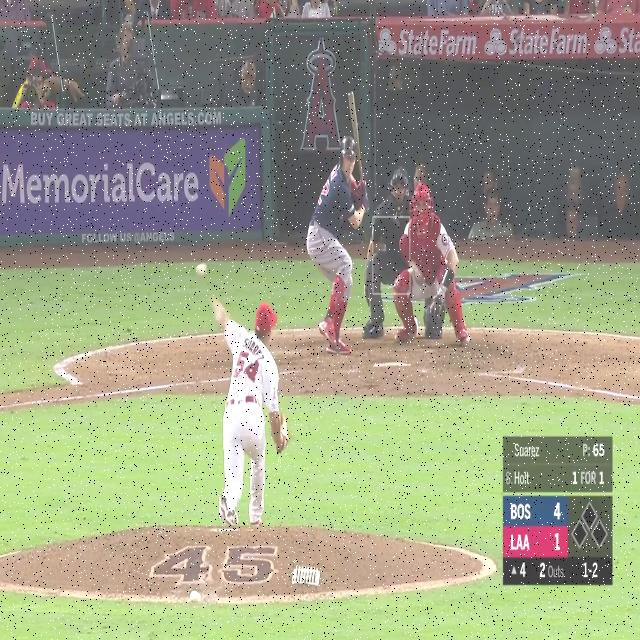baseball: (195, 262, 208, 278)
